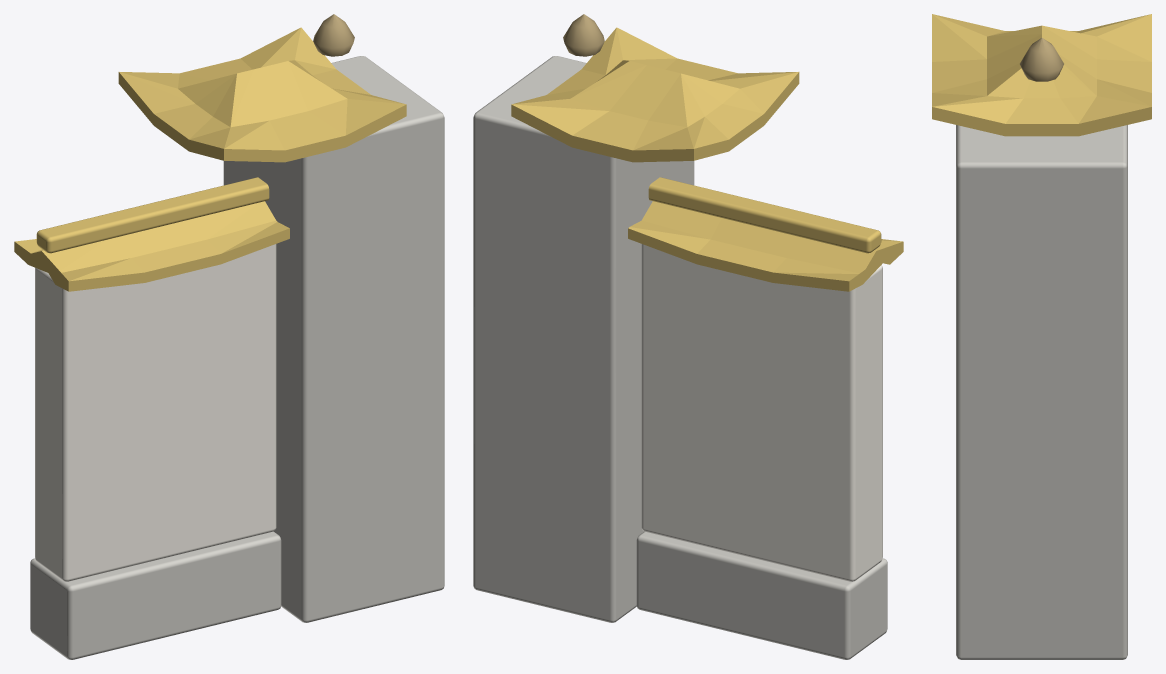
The model's file is wall-end-pier.glb.
The picture shows the model from 3 angles, left to right: view 1: azimuth 30°, elevation 25°; view 2: azimuth 150°, elevation 25°; view 3: azimuth 270°, elevation 25°; orthographic projection. The views are drawn at different scales.
Visible parts, largest first — view 1: palace-wall-end-pier; view 2: palace-wall-end-pier; view 3: palace-wall-end-pier.
Boxes of the visible parts, box(x1,y1,x2,y2) form: palace-wall-end-pier: box(14, 14, 444, 659); palace-wall-end-pier: box(473, 14, 903, 659); palace-wall-end-pier: box(932, 14, 1151, 659).
Size of the model in its own units: 2.55 by 3.78 by 1.28.
